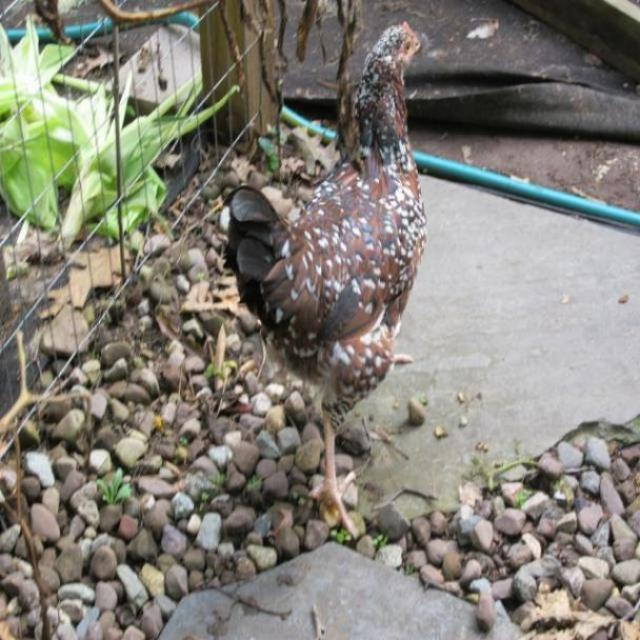Chicken: (228, 19, 426, 534)
